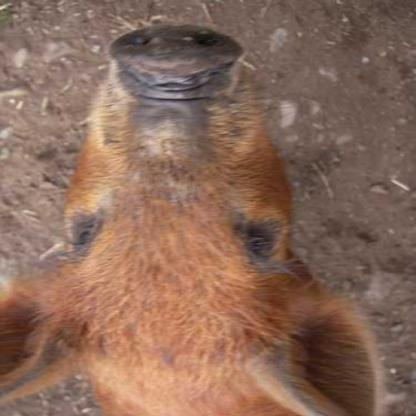boar: (8, 1, 359, 395)
